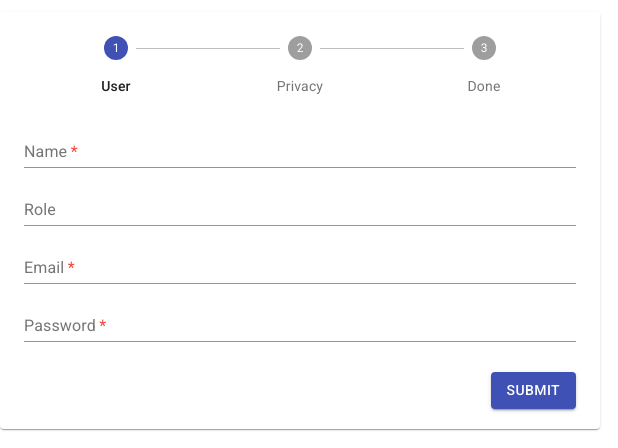
renders the submit button diabled if the form is incomplete
The image size is (618, 448).
Type "Nick" into the field labelled "Name *". click: (300, 152)
box: [24,136,576,168]
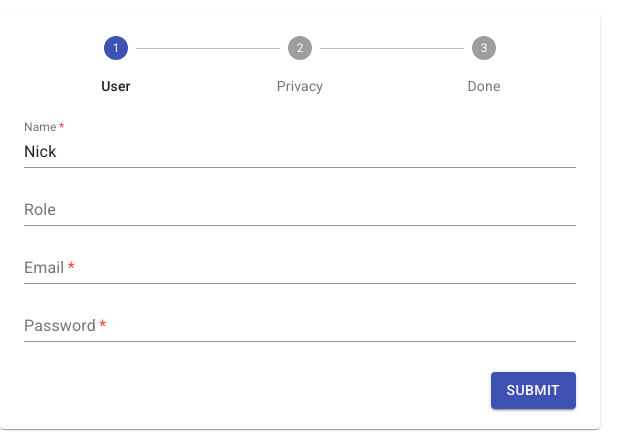
Type "offerman@woodworks.co" into the field labelled "Email *". click: (300, 268)
box: [24,252,576,284]
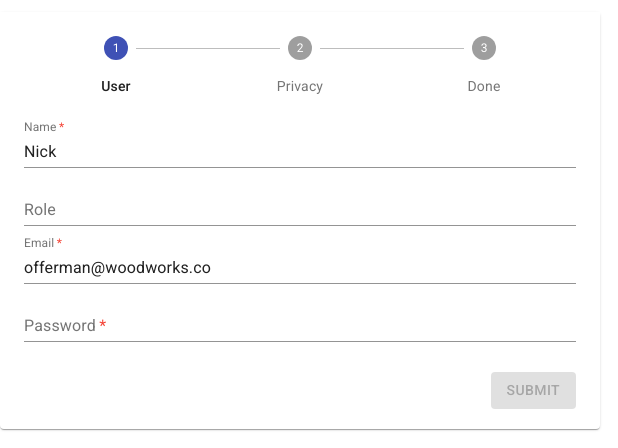
Now the button "Submit" is disabled, box [491,372,576,408]
